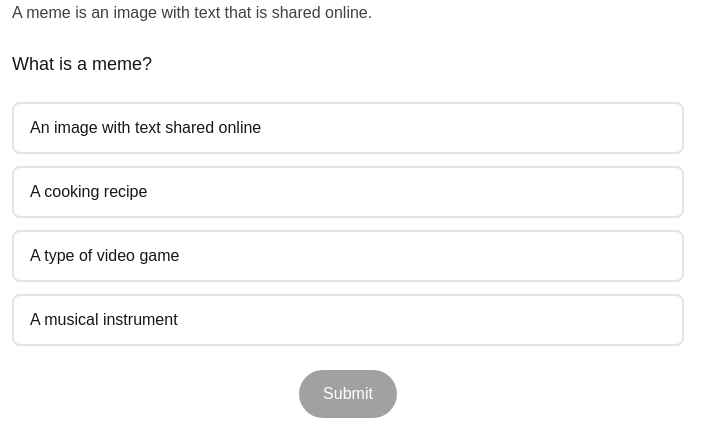
Test case: ComprehensionCheck › selecting an option enables the submit button
Click the button "A type of video game" at (105, 256), box [12,230,684,282]
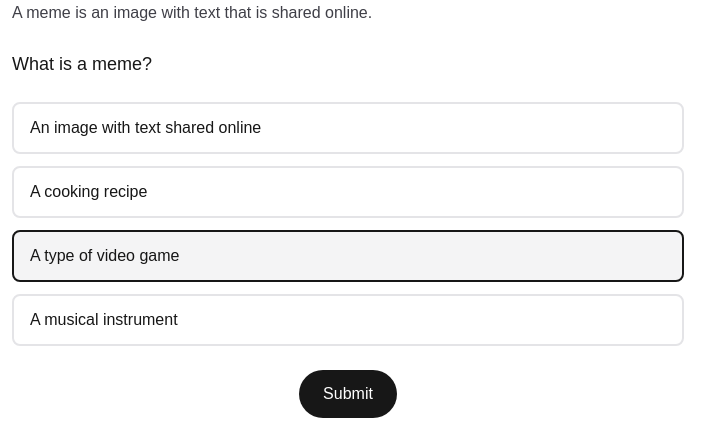
Check: the button "Submit" is enabled, box [299,370,397,418]
